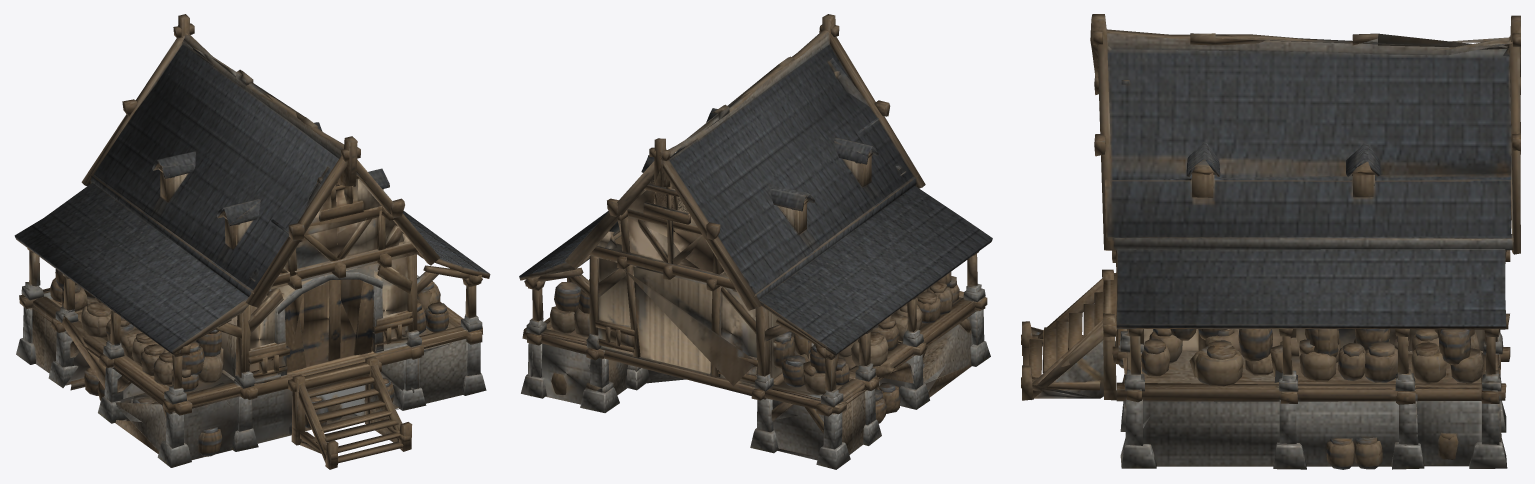
Rendered from Storage.glb.
3 renders of one model, left to right at view 1: azimuth 30°, elevation 25°; view 2: azimuth 150°, elevation 25°; view 3: azimuth 270°, elevation 25°, orthographic. The views are drawn at different scales.
Bounding box in the file's own units: 0.916 × 0.8125 × 1.
Materials: 1 (1 with a texture image).
